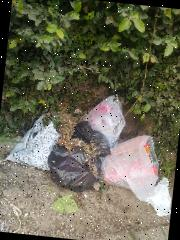plastic: (109, 136, 162, 198), (44, 142, 103, 193), (86, 95, 128, 136), (70, 118, 114, 156)
